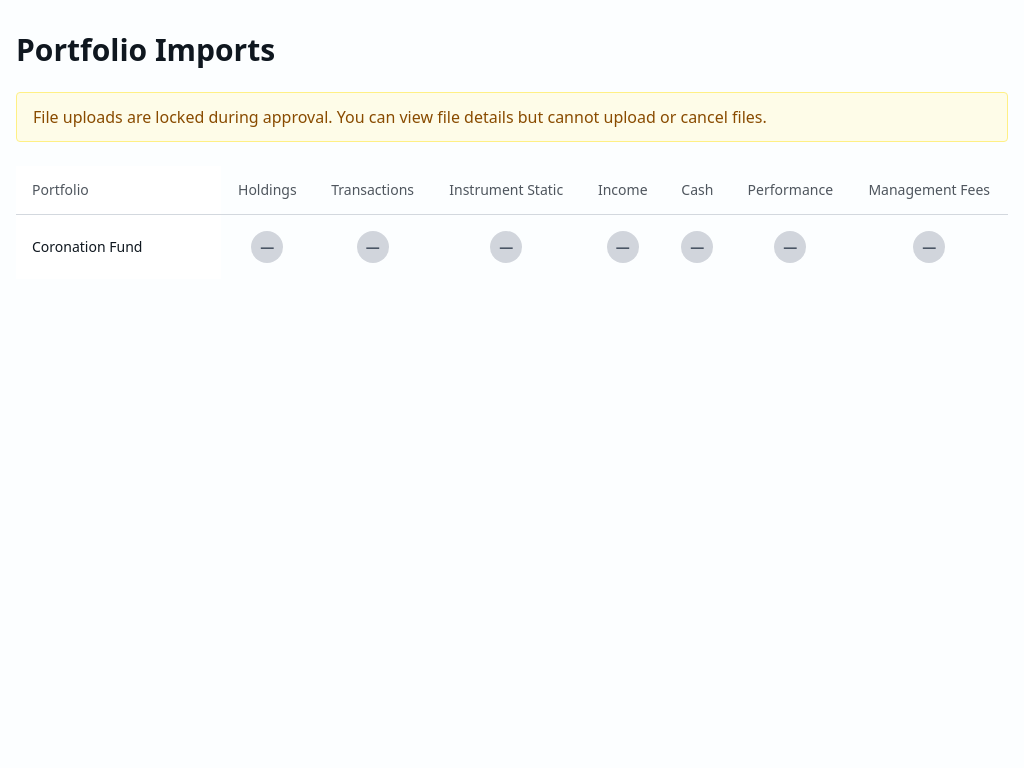
Scenario: Epic 2, Story 5: File Access Restrictions › Access Control - Approval Phases (Locked) › allows read-only access - user can view file details
Expected: the text "File uploads are locked during approval" is shown, [33,106,767,128]
Click the 1st button "—". click: (267, 246)
box: [251,230,283,262]
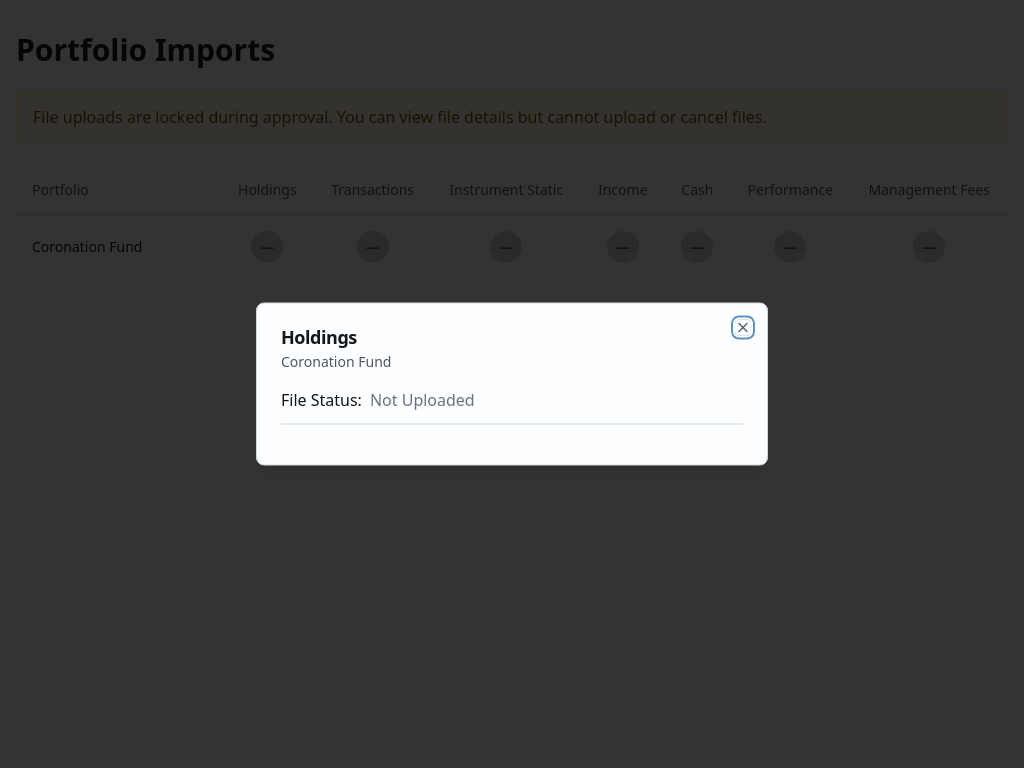
Expected: the dialog is shown, [256,302,768,466]
